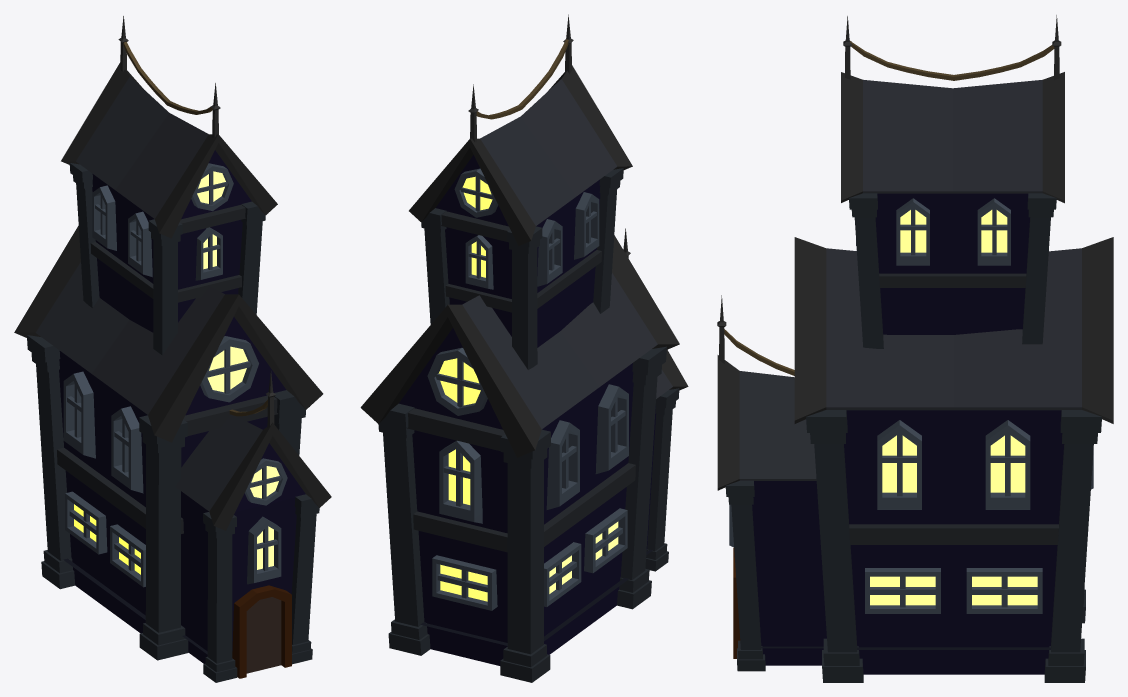
Rendered from CasaGoticaVariante1_Casa06.fbx.
3 views of the same model, side by side, from view 1: azimuth 30°, elevation 25°; view 2: azimuth 150°, elevation 25°; view 3: azimuth 270°, elevation 25° (orthographic). The views are drawn at different scales.
Visible parts, largest first — view 1: Teto06, Pilar06, Parede06, JanelaMolde06, Divisao06, JanelaFundo06, Porta06, PortaContorno06, Ponta06, Corda06, Base06; view 2: Teto06, Pilar06, Parede06, JanelaMolde06, Divisao06, JanelaFundo06, Base06, Corda06, Ponta06; view 3: Teto06, Parede06, Pilar06, JanelaMolde06, JanelaFundo06, Divisao06, Corda06, Ponta06, Base06.
Part boxes in pixels (bbox=[...]): Teto06: bbox=[14, 62, 331, 530]; Pilar06: bbox=[26, 163, 319, 682]; Parede06: bbox=[59, 150, 305, 663]; JanelaMolde06: bbox=[63, 163, 287, 587]; Divisao06: bbox=[57, 205, 277, 533]; JanelaFundo06: bbox=[74, 171, 279, 574]; Porta06: bbox=[246, 597, 281, 673]; PortaContorno06: bbox=[232, 585, 291, 678]; Ponta06: bbox=[118, 16, 275, 427]; Corda06: bbox=[123, 42, 267, 416]; Base06: bbox=[63, 558, 207, 654]; Teto06: bbox=[360, 65, 688, 457]; Pilar06: bbox=[378, 168, 679, 682]; Parede06: bbox=[399, 155, 656, 665]; JanelaMolde06: bbox=[427, 168, 628, 610]; Divisao06: bbox=[407, 211, 635, 552]; JanelaFundo06: bbox=[438, 176, 618, 601]; Base06: bbox=[420, 549, 652, 645]; Corda06: bbox=[476, 39, 568, 119]; Ponta06: bbox=[468, 14, 630, 257]; Teto06: bbox=[717, 72, 1113, 490]; Parede06: bbox=[752, 193, 1064, 674]; Pilar06: bbox=[725, 193, 1101, 682]; JanelaMolde06: bbox=[729, 198, 1093, 613]; JanelaFundo06: bbox=[870, 210, 1037, 605]; Divisao06: bbox=[849, 273, 1058, 544]; Corda06: bbox=[724, 41, 1054, 375]; Ponta06: bbox=[717, 15, 1061, 363]; Base06: bbox=[761, 646, 1050, 649].
Size of the model in its own units: 1099 by 3439 by 1957.
